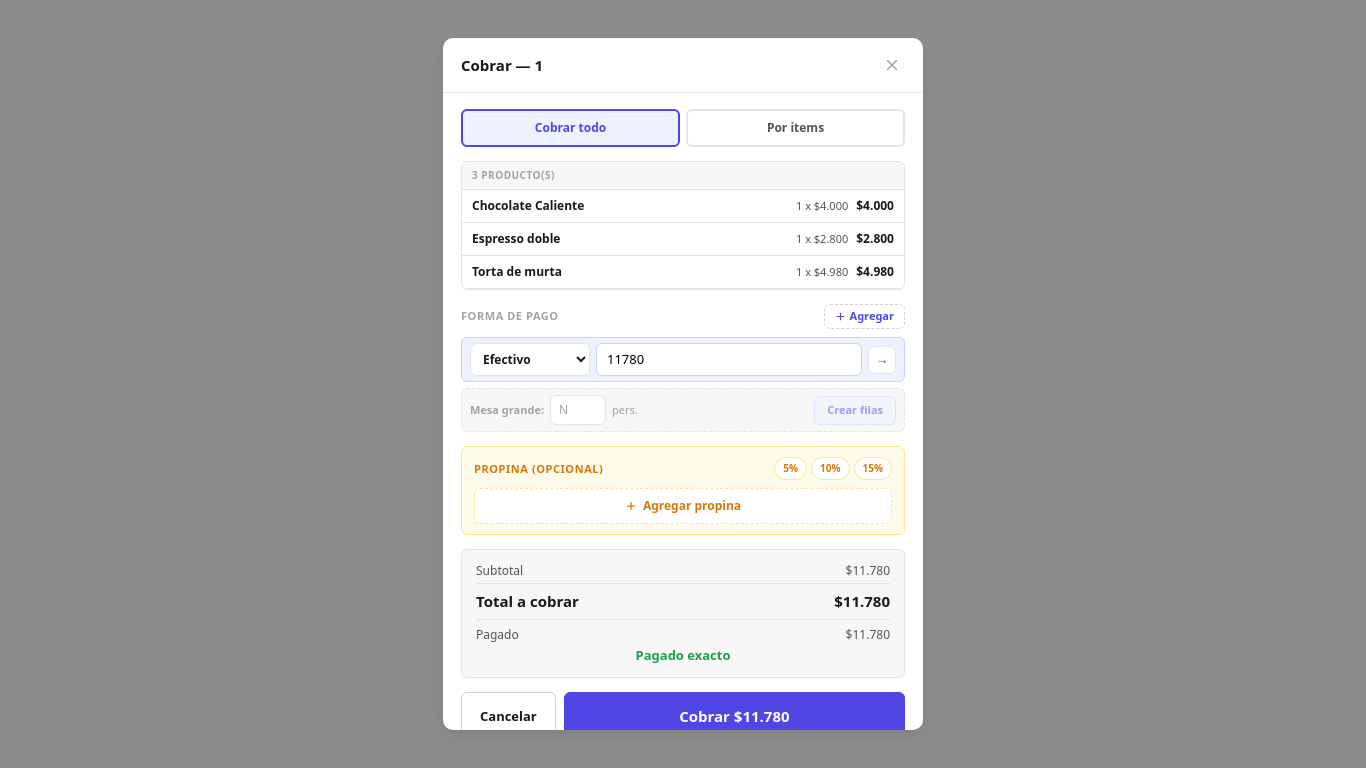
Test: PaymentModal, Por items › parte con todos los items SIN marcar y el boton de cobrar deshabilitado
What coordinates should you click on to do the following:
click the button "Por items"
I would click on:
 (796, 128)
Its box is [686,109,905,147].
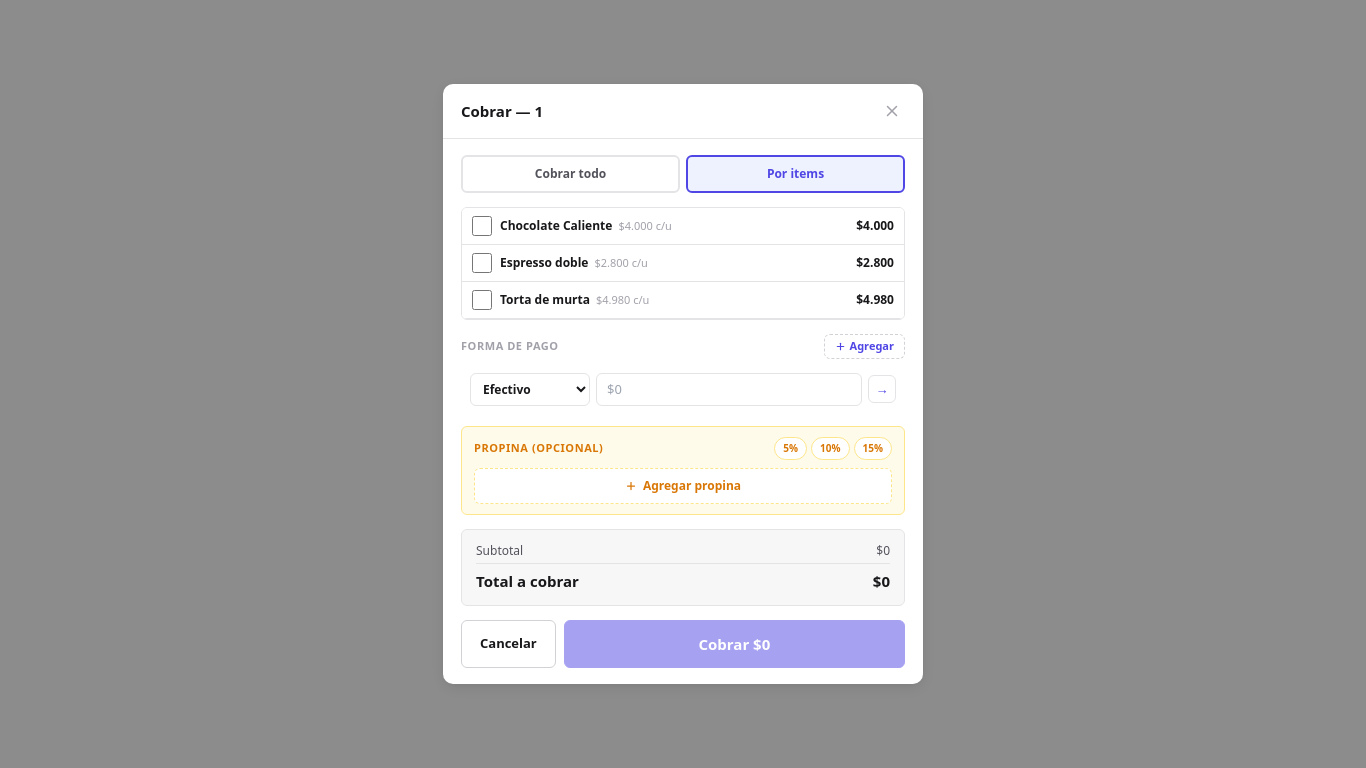
expect the button "Cobrar $0" is disabled: met, box [564,620,905,668]
